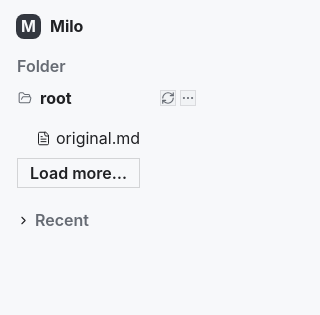
Scenario: rejects a mismatched response token and retains the original page until explicit retry
Click the button "Load more…": (79, 173) x1=17 y1=158 x2=140 y2=188
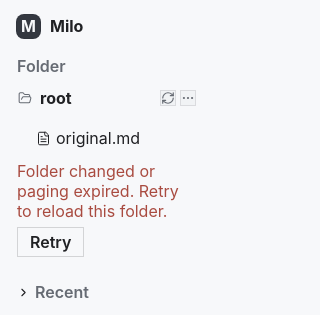
Expected: the button "original.md" is shown, x1=10 y1=124 x2=199 y2=153
Now the message shows "Folder changed or paging expired. Retry to reload this folder.", box x1=17 y1=161 x2=179 y2=221
